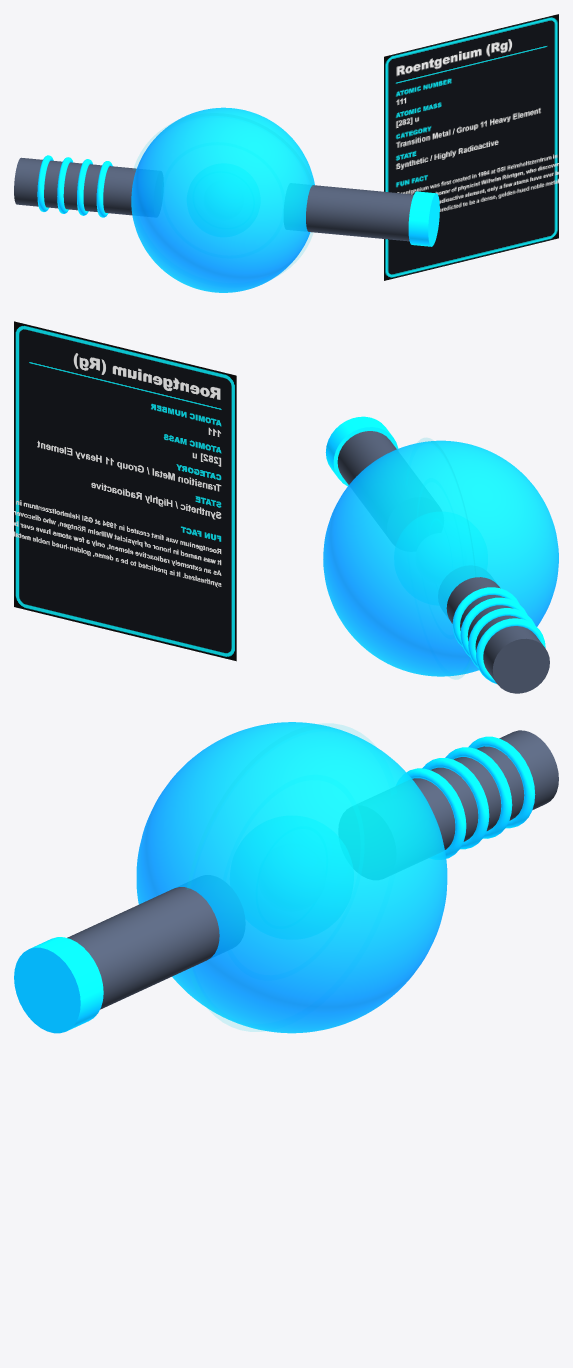
File: roentgenium.glb
3 renders of one model, top to bottom at view 1: azimuth 30°, elevation 25°; view 2: azimuth 150°, elevation 25°; view 3: azimuth 270°, elevation 25°, orthographic. The views are drawn at different scales.
Parts seen in each view (by area): view 1: Mesh_25, Mesh_0, Mesh_6, Mesh_6.001, Mesh_7, Mesh_5, Mesh_11, Mesh_8, Mesh_10, Mesh_9; view 2: Mesh_25, Mesh_0, Mesh_6.001, Mesh_6, Mesh_7, Mesh_11, Mesh_9, Mesh_8, Mesh_10; view 3: Mesh_0, Mesh_6, Mesh_7, Mesh_6.001, Mesh_11, Mesh_9, Mesh_10, Mesh_5, Mesh_8.
Part boxes in pixels (bbox=[...]): Mesh_25: bbox=[384, 14, 558, 280]; Mesh_0: bbox=[131, 107, 314, 292]; Mesh_6: bbox=[306, 185, 413, 241]; Mesh_6.001: bbox=[14, 157, 136, 215]; Mesh_7: bbox=[408, 191, 439, 246]; Mesh_5: bbox=[134, 113, 313, 273]; Mesh_11: bbox=[37, 155, 53, 211]; Mesh_8: bbox=[96, 161, 112, 217]; Mesh_10: bbox=[57, 157, 73, 213]; Mesh_9: bbox=[77, 159, 92, 215]; Mesh_25: bbox=[14, 321, 236, 661]; Mesh_0: bbox=[323, 440, 558, 676]; Mesh_6.001: bbox=[446, 577, 549, 693]; Mesh_6: bbox=[337, 431, 396, 484]; Mesh_7: bbox=[325, 416, 398, 486]; Mesh_11: bbox=[476, 618, 545, 683]; Mesh_9: bbox=[460, 597, 527, 657]; Mesh_8: bbox=[452, 587, 519, 646]; Mesh_10: bbox=[468, 608, 534, 667]; Mesh_0: bbox=[136, 722, 447, 1033]; Mesh_6: bbox=[67, 887, 219, 1009]; Mesh_7: bbox=[14, 937, 103, 1033]; Mesh_6.001: bbox=[412, 730, 558, 849]; Mesh_11: bbox=[468, 736, 535, 828]; Mesh_9: bbox=[422, 758, 489, 849]; Mesh_10: bbox=[445, 747, 512, 838]; Mesh_5: bbox=[187, 724, 373, 1031]; Mesh_8: bbox=[406, 768, 466, 858].
Size of the model in its own units: 3.15 by 1.4 by 1.83.
Materials: 9 (1 with a texture image).
